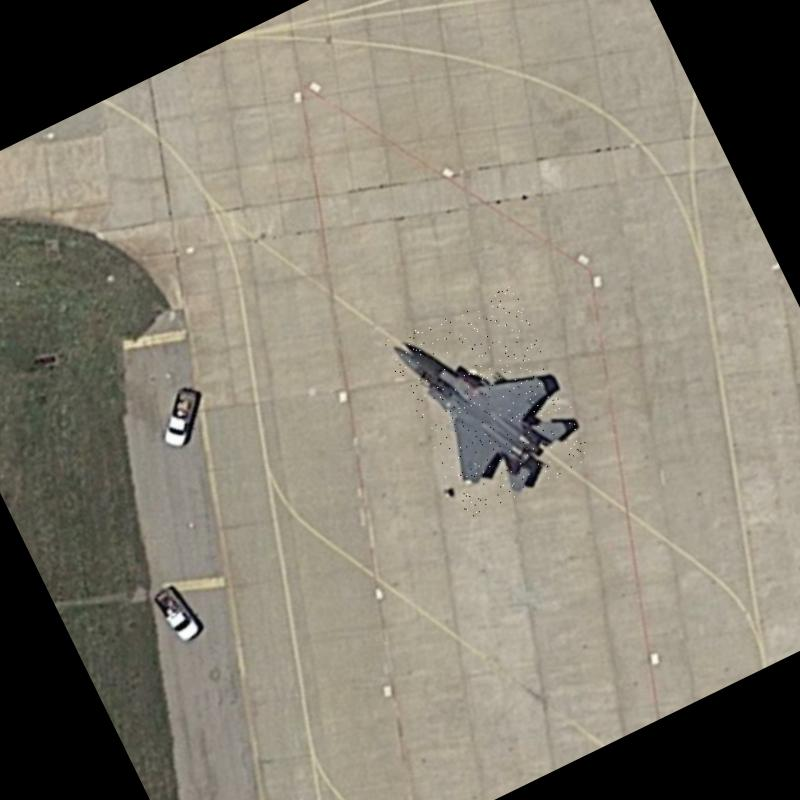A13: (380, 280, 596, 521)
